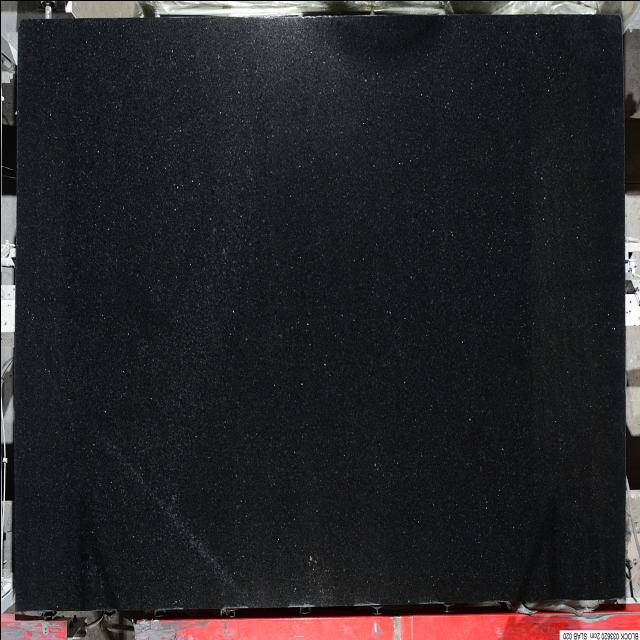chapa: (14, 14, 624, 610)
